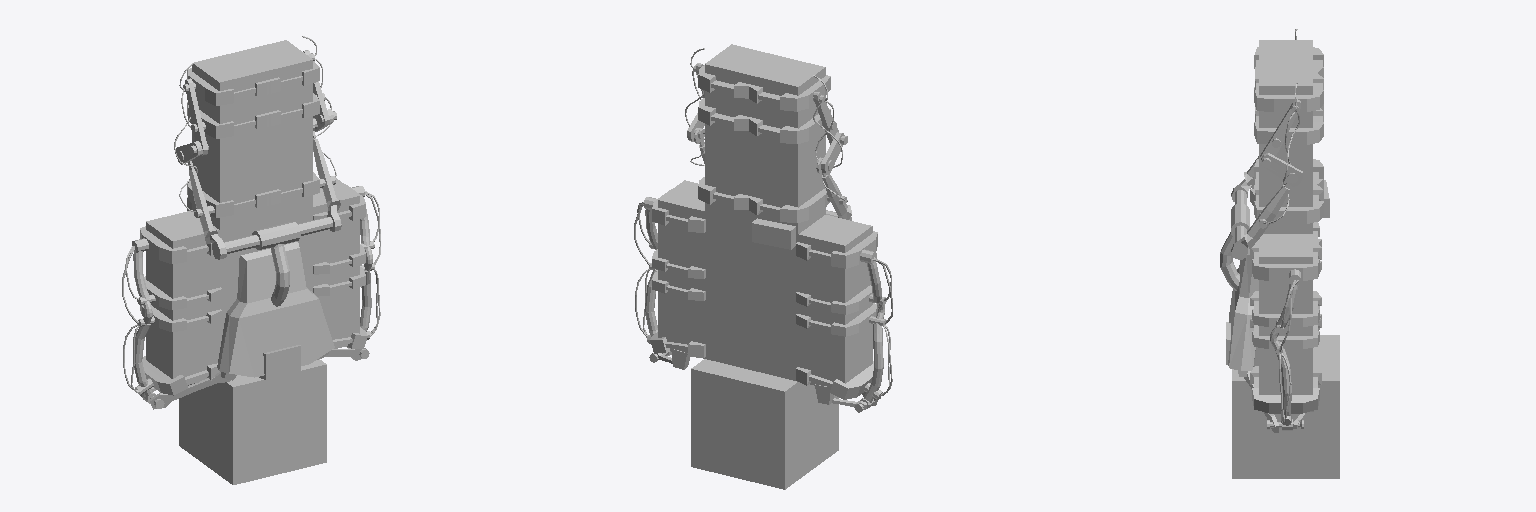
File: stalker.exoskelet.obj
The picture shows the model from 3 angles: view 1: azimuth 30°, elevation 25°; view 2: azimuth 150°, elevation 25°; view 3: azimuth 270°, elevation 25°; orthographic projection.
Parts seen in each view (by area): view 1: head.001, bodyModel, right_leg.001, right_arm.001, rightArmModel, left_leg.001, rightLegModel, left_arm.001, leftArmModel, leftLegModel, body.001; view 2: head.001, body.001, right_arm.001, right_leg.001, rightArmModel, left_leg.001, left_arm.001, rightLegModel, leftArmModel, leftLegModel, bodyModel; view 3: head.001, leftArmModel, leftLegModel, left_arm.001, left_leg.001, bodyModel, right_leg.001, rightLegModel.
Part boxes in pixels (x1,y1,x2,y2): head.001: (179,359,326,484); bodyModel: (187,197,341,380); right_leg.001: (192,51,265,229); right_arm.001: (146,211,219,384); rightArmModel: (122,226,230,409); left_leg.001: (240,40,312,218); rightLegModel: (174,63,270,243); left_arm.001: (313,177,359,348); leftArmModel: (313,184,380,360); leftLegModel: (267,36,340,210); body.001: (220,207,312,346); head.001: (691,359,838,489); body.001: (705,212,797,381); right_arm.001: (798,215,872,385); right_leg.001: (752,56,825,233); rightArmModel: (796,231,892,412); left_leg.001: (705,44,777,222); left_arm.001: (658,180,704,358); rightLegModel: (748,75,851,222); leftArmModel: (634,189,705,369); leftLegModel: (685,48,748,209); bodyModel: (752,210,851,249); head.001: (1232,335,1339,478); leftArmModel: (1244,241,1321,432); leftLegModel: (1244,73,1323,248); left_arm.001: (1259,234,1312,394); left_leg.001: (1259,63,1312,233); bodyModel: (1220,179,1329,376); right_leg.001: (1259,40,1312,62); rightLegModel: (1244,29,1323,189).
Size of the model in its own units: 21.94 by 32.49 by 8.84.